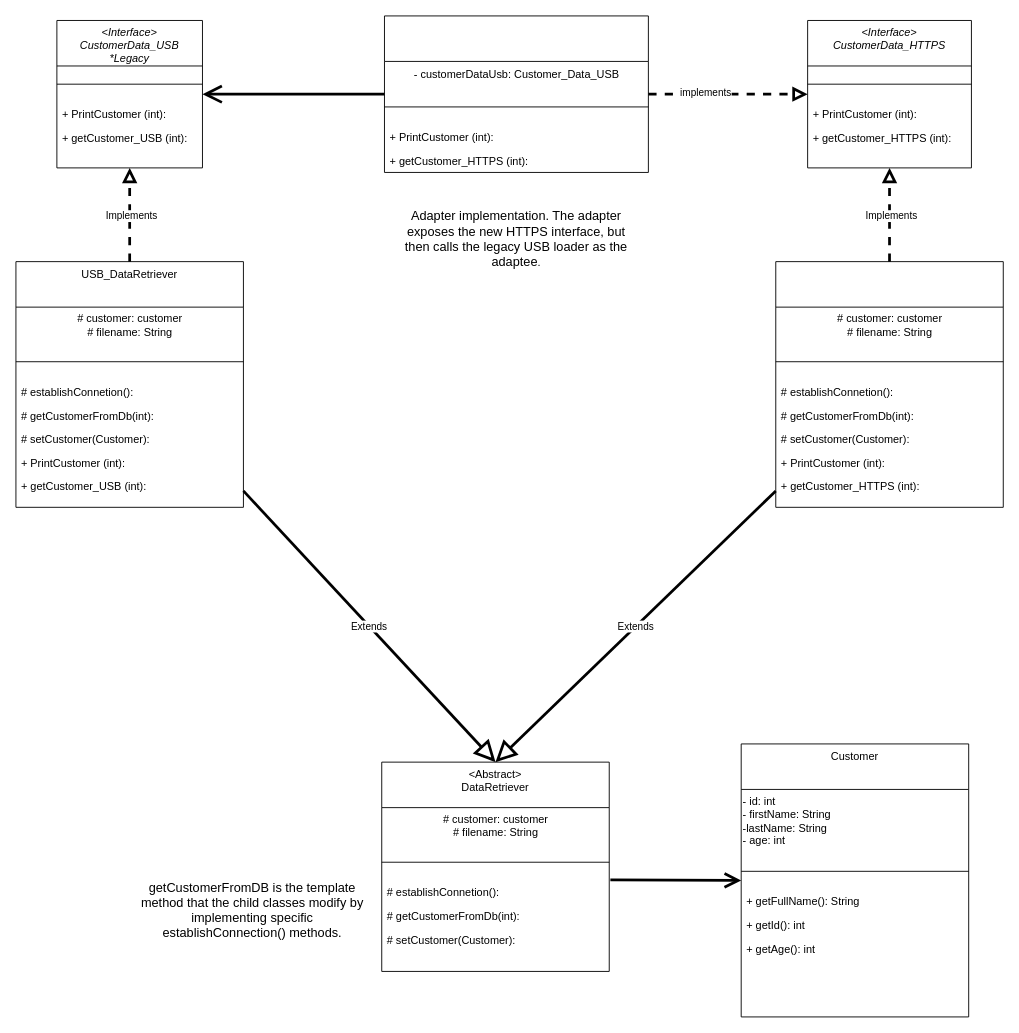
This 1019x1033 diagram has some shape labels left out. Here are the shapes that lost their labels. From the top down, the box of each, then its label:
(384, 15, 648, 172): USB_HTTPS_Adapter
(775, 261, 1003, 507): HTTPS_DataRetriever
